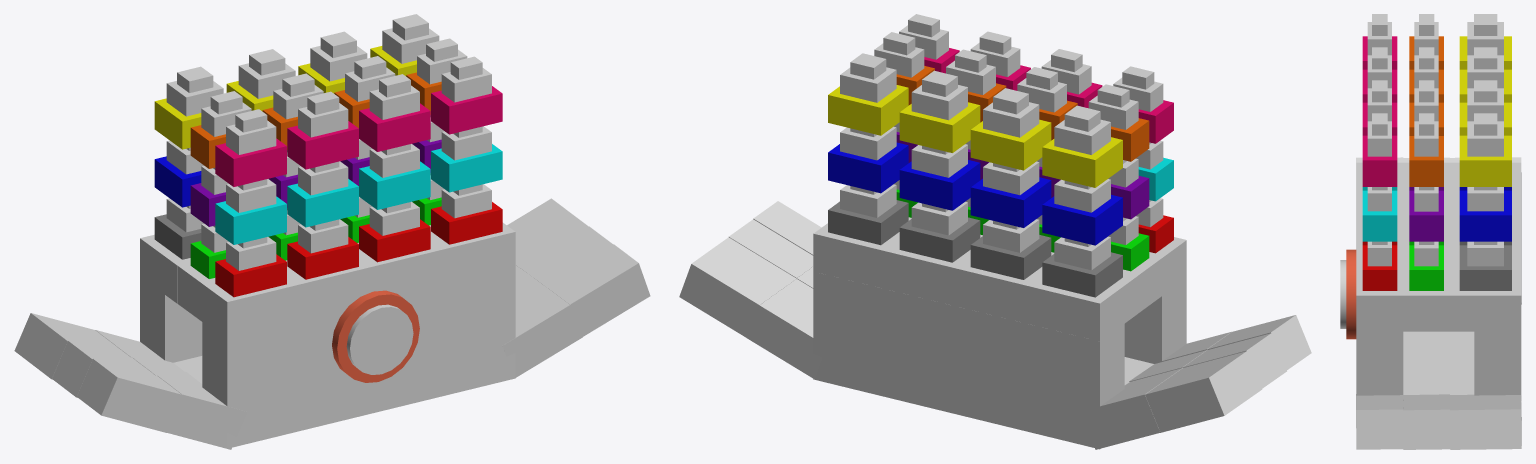
3 renders of one model, left to right at view 1: azimuth 30°, elevation 25°; view 2: azimuth 150°, elevation 25°; view 3: azimuth 270°, elevation 25°, orthographic. The views are drawn at different scales.
Parts seen in each view (by area): view 1: pCube1441, pCube1444, pCube971, pCube1438, pCube1421, pCylinder64, pCube1447, pCube1353, pCube1425, pCube1445, pCube975, pCube1349 (+64 smaller); view 2: pCube1442, pCube1445, pCube973, pCube1439, pCube1429, pCube1433, pCube1351, pCube1352, pCube974, pCube1448, pCube1432, pCube1431 (+59 smaller); view 3: pCube1352, pCube1442, pCube1354, pCube1353, pCube1441, pCube1440, pCube1376, pCube1394, pCube1424, pCube1432, pCube1358, pCube1416 (+64 smaller).
Part boxes in pixels (bbox=[...]): pCube1441: bbox=[545, 244, 650, 336]; pCube1444: bbox=[77, 358, 182, 432]; pCube971: bbox=[202, 275, 299, 340]; pCube1438: bbox=[502, 286, 582, 377]; pCube1421: bbox=[202, 322, 299, 378]; pCylinder64: bbox=[346, 304, 413, 374]; pCube1447: bbox=[157, 375, 247, 449]; pCube1353: bbox=[430, 222, 515, 287]; pCube1425: bbox=[202, 360, 299, 408]; pCube1445: bbox=[14, 313, 130, 379]; pCube975: bbox=[287, 257, 371, 322]; pCube1349: bbox=[359, 240, 442, 297]; pCube1442: bbox=[679, 237, 796, 338]; pCube1445: bbox=[1145, 351, 1262, 432]; pCube973: bbox=[1027, 272, 1137, 341]; pCube1439: bbox=[747, 279, 822, 379]; pCube1429: bbox=[1027, 324, 1124, 379]; pCube1433: bbox=[1027, 362, 1124, 417]; pCube1351: bbox=[885, 240, 970, 306]; pCube1352: bbox=[813, 220, 908, 288]; pCube974: bbox=[957, 255, 1051, 323]; pCube1448: bbox=[1090, 368, 1182, 449]; pCube1432: bbox=[813, 271, 885, 326]; pCube1431: bbox=[885, 289, 956, 344]; pCube1352: bbox=[1450, 262, 1521, 331]; pCube1442: bbox=[1450, 401, 1521, 449]; pCube1354: bbox=[1403, 262, 1450, 331]; pCube1353: bbox=[1356, 262, 1403, 331]; pCube1441: bbox=[1356, 401, 1403, 449]; pCube1440: bbox=[1403, 401, 1450, 449]; pCube1376: bbox=[1459, 190, 1511, 241]; pCube1394: bbox=[1459, 135, 1511, 186]; pCube1424: bbox=[1356, 331, 1403, 367]; pCube1432: bbox=[1474, 331, 1521, 367]; pCube1358: bbox=[1459, 245, 1511, 290]; pCube1416: bbox=[1403, 331, 1449, 364].
Size of the model in its own units: 22.24 by 12.31 by 6.73.
